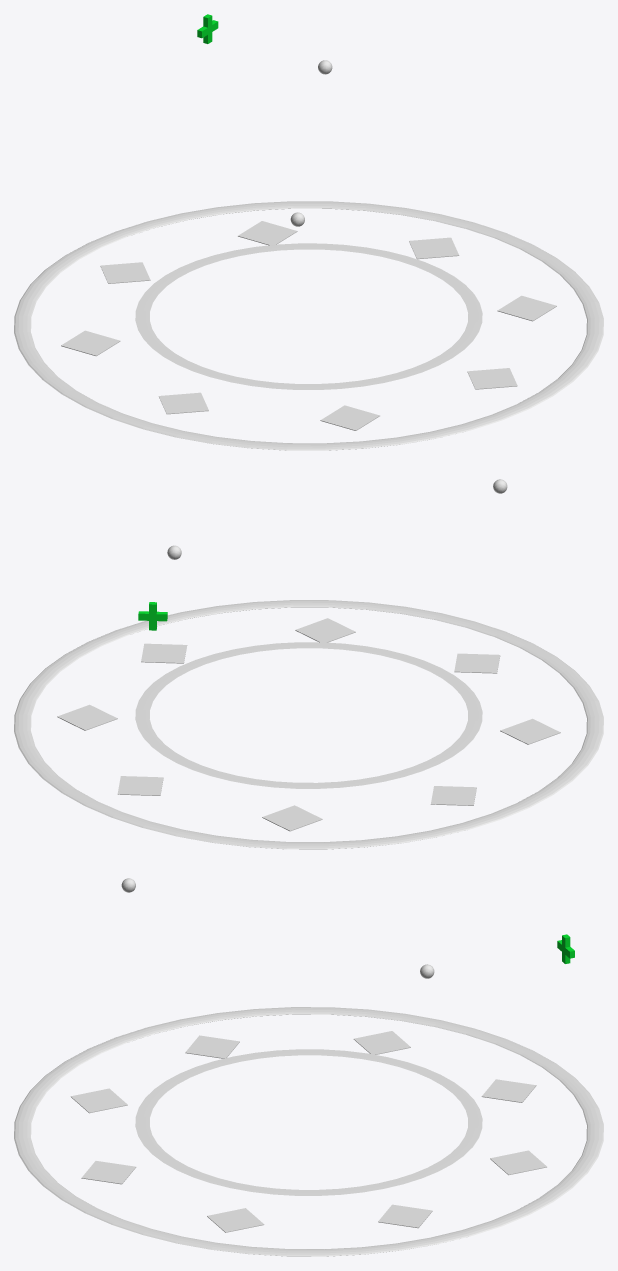
Rendered from HEAL6.fbx.
3 views of the same model, one above another, from view 1: azimuth 30°, elevation 25°; view 2: azimuth 150°, elevation 25°; view 3: azimuth 270°, elevation 25° (orthographic).
Visible parts, largest first — view 1: Tore; view 2: Tore; view 3: Tore.
Part boxes in pixels (x1,y1,x2,y2): Tore: (14,14,603,450); Tore: (14,479,603,849); Tore: (14,878,603,1256).
Size of the model in its own units: 4.11 by 4.11 by 1.62.
